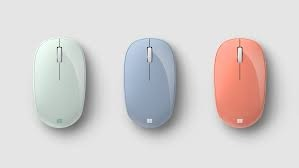mouse: (206, 34, 272, 132), (118, 34, 182, 131), (32, 33, 88, 132)
